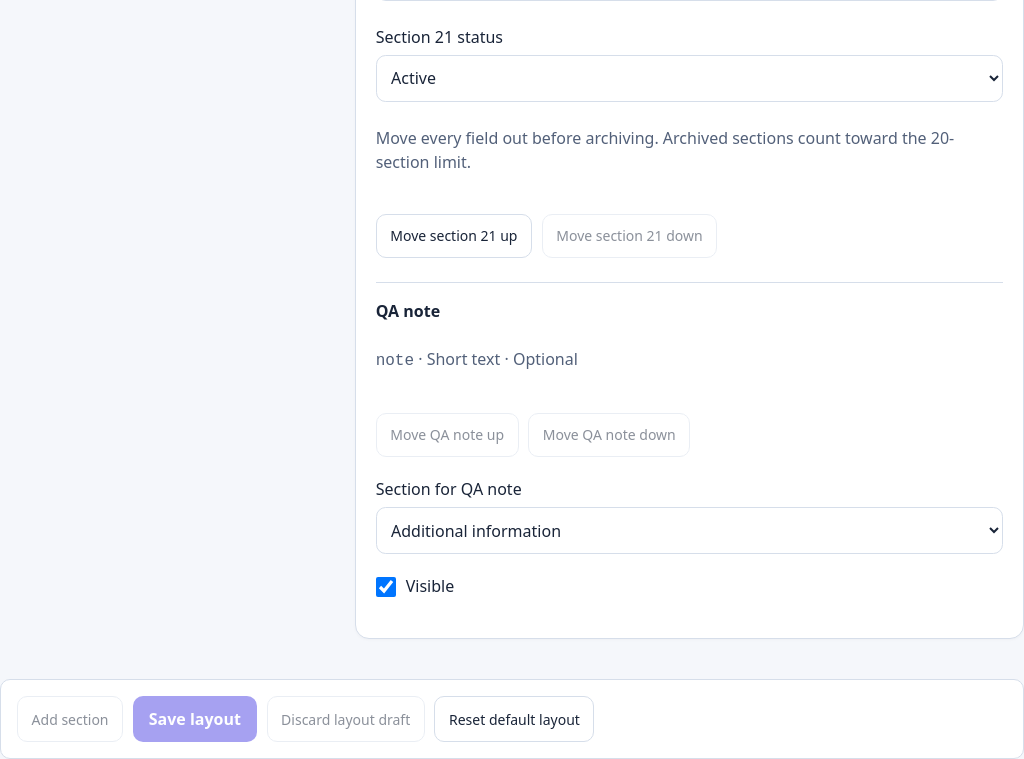
Test: a saved 20-section layout can place a new field without retaining an empty synthetic 21st section
(page scrolled)
Select "Saved 0" in the dropdown labelled "Section for QA note" at (689, 531), box [376,507,1003,554]
(page scrolled)
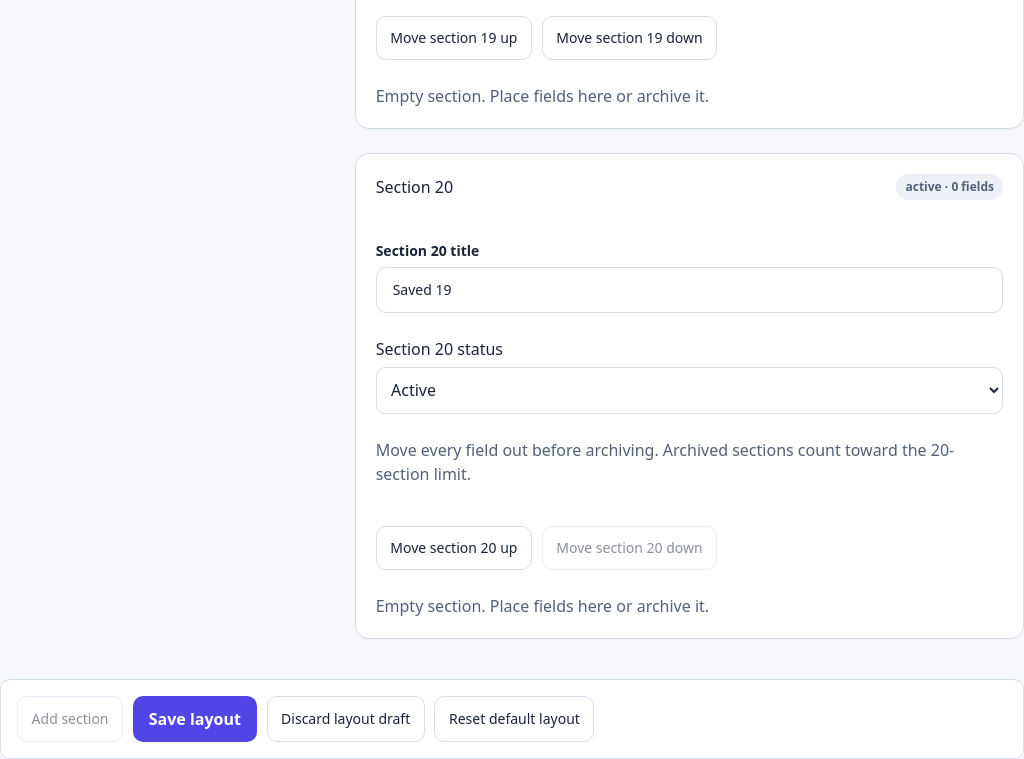
Expected: the button "Save layout" is enabled, [133,696,257,742]
